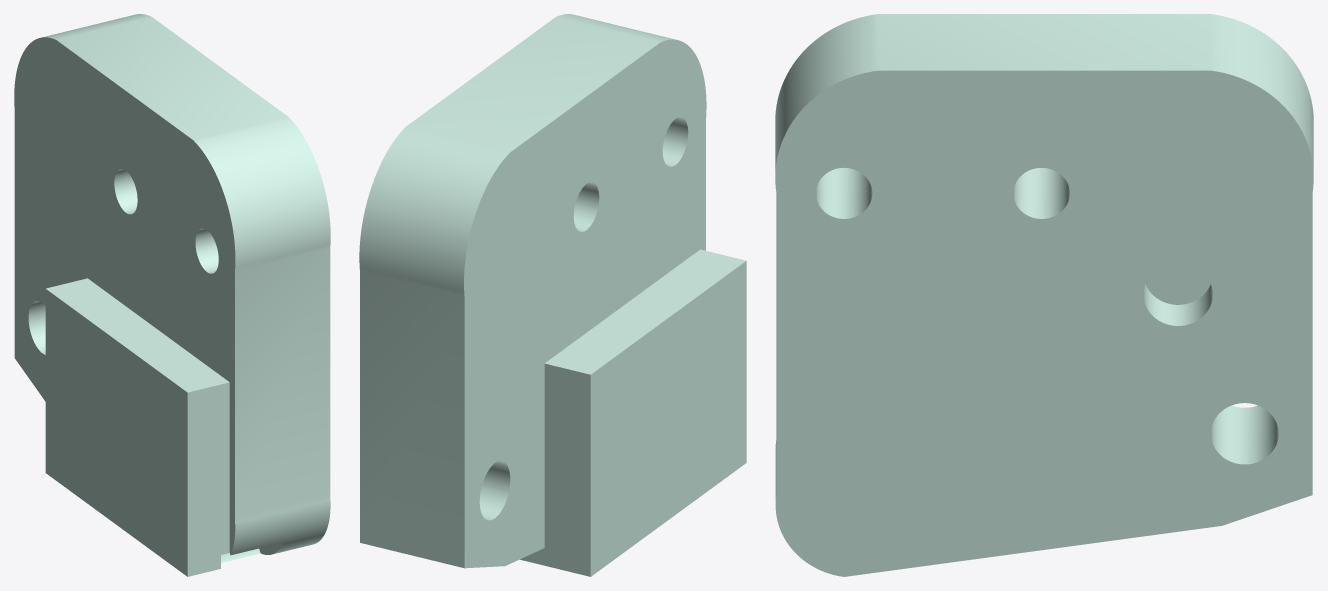
The picture shows the model from 3 angles, left to right: view 1: azimuth 30°, elevation 25°; view 2: azimuth 150°, elevation 25°; view 3: azimuth 270°, elevation 25°; orthographic projection. The views are drawn at different scales.
Parts seen in each view (by area): view 1: Renderer Node; view 2: Renderer Node; view 3: Renderer Node.
Part boxes in pixels (<box>): Renderer Node: <box>14,14,330,576</box>; Renderer Node: <box>359,14,746,576</box>; Renderer Node: <box>775,14,1313,576</box>.
Size of the model in its own units: 0.4844 by 1.4 by 1.35.
